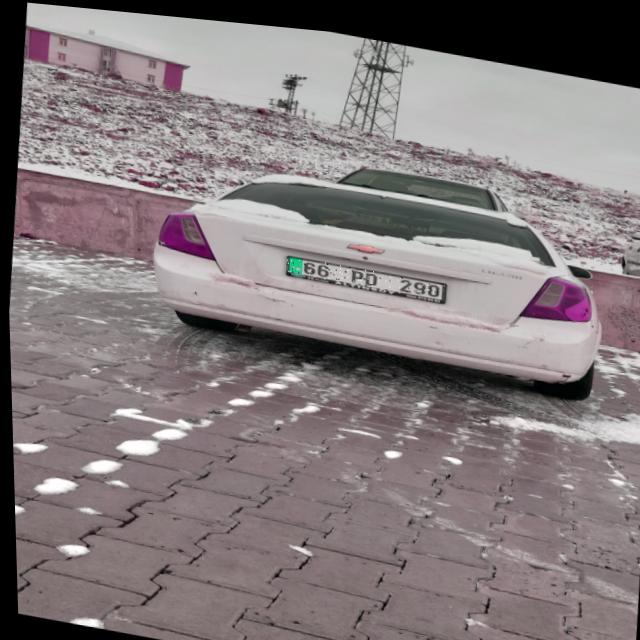license_plate: (284, 249, 444, 292)
